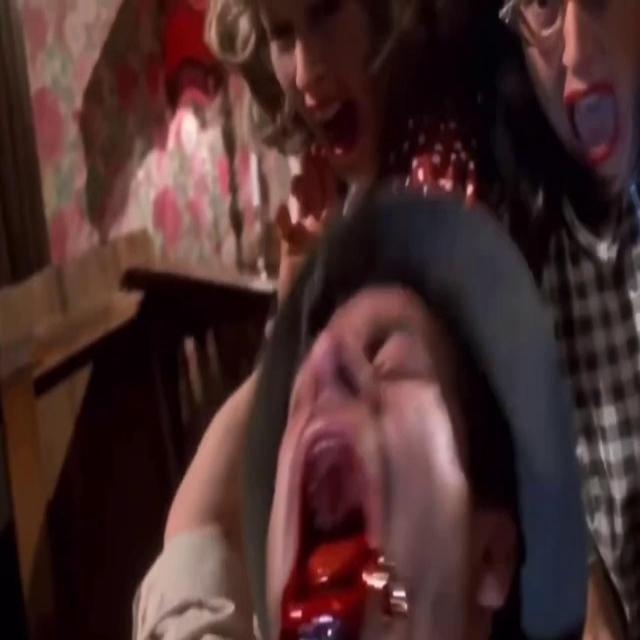flood: (263, 457, 413, 640)
